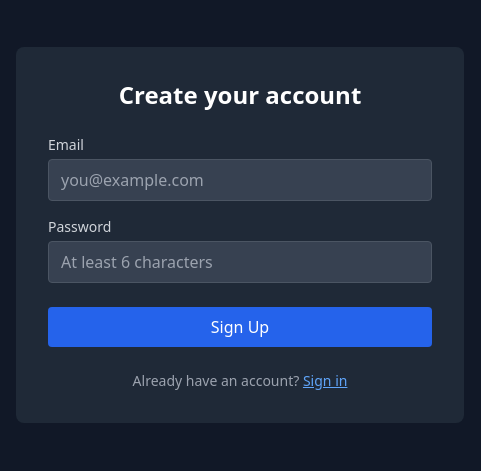
SignUpPage › displays error for duplicate email
The width and height of the screenshot is (481, 471).
Type "existing@example.com" into the field labelled "Email" at (240, 180), box left=48, top=159, right=432, bottom=201
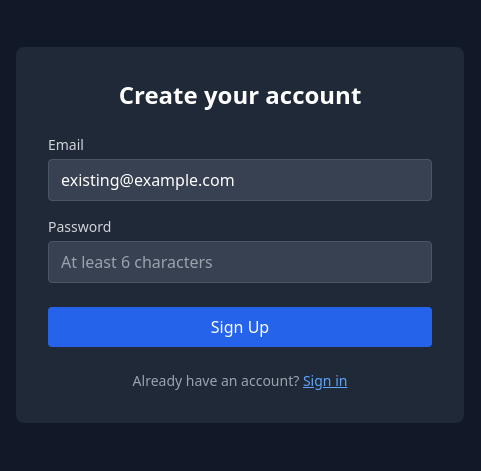
Type "password123" into the password field labelled "Password" at (240, 262), box left=48, top=241, right=432, bottom=283
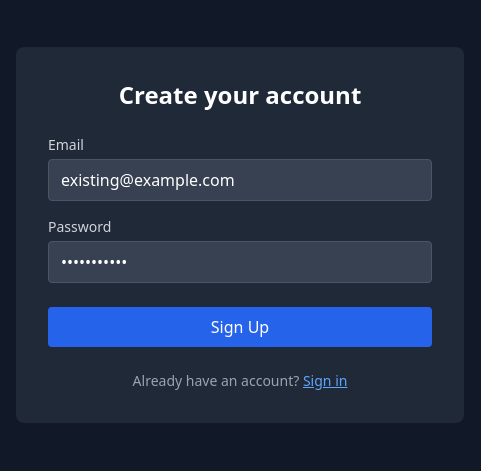
Click the button "Sign Up" at (240, 327), box left=48, top=307, right=432, bottom=347
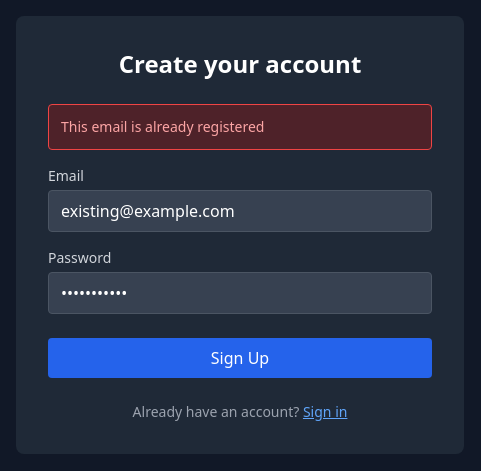
Expected: the text "This email is already registered" is shown, left=48, top=104, right=432, bottom=150
